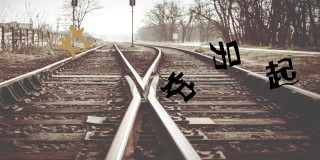另: (209, 36, 241, 70)
灶: (57, 25, 96, 58)
炉: (160, 70, 195, 105)
起: (265, 56, 299, 90)
